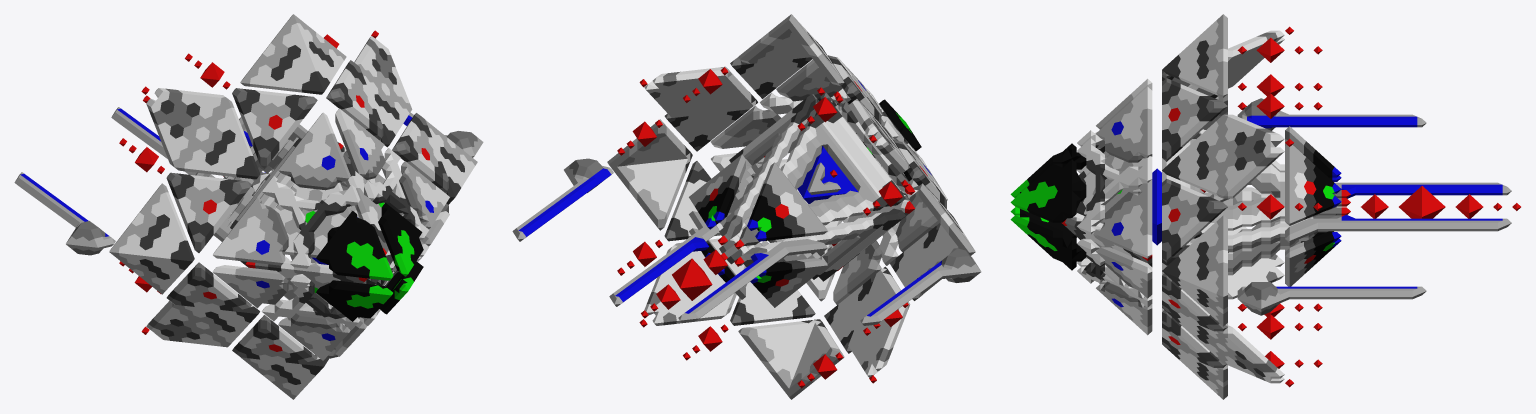
Rendered from ship_auron_0.fbx.
3 renders of one model, left to right at view 1: azimuth 30°, elevation 25°; view 2: azimuth 150°, elevation 25°; view 3: azimuth 270°, elevation 25°, orthographic.
Visible parts, largest first — view 1: ship_auron_0; view 2: ship_auron_0; view 3: ship_auron_0.
Boxes of the visible parts, x1=… form: ship_auron_0: x1=14, y1=14, x2=483, y2=399; ship_auron_0: x1=512, y1=14, x2=981, y2=399; ship_auron_0: x1=1010, y1=14, x2=1520, y2=399.
Size of the model in its own units: 5100 by 4500 by 5400.
